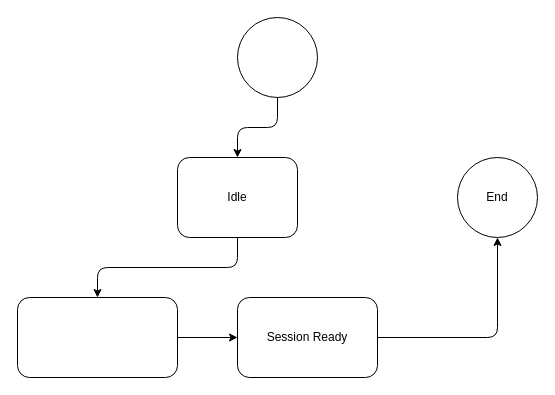
This 555x395 diagram has some shape labels left out. The centre of each missing label's shape, as x and y in pixels:
"Loader Initialized" goes at point (97, 337).
"Start" goes at point (277, 57).
